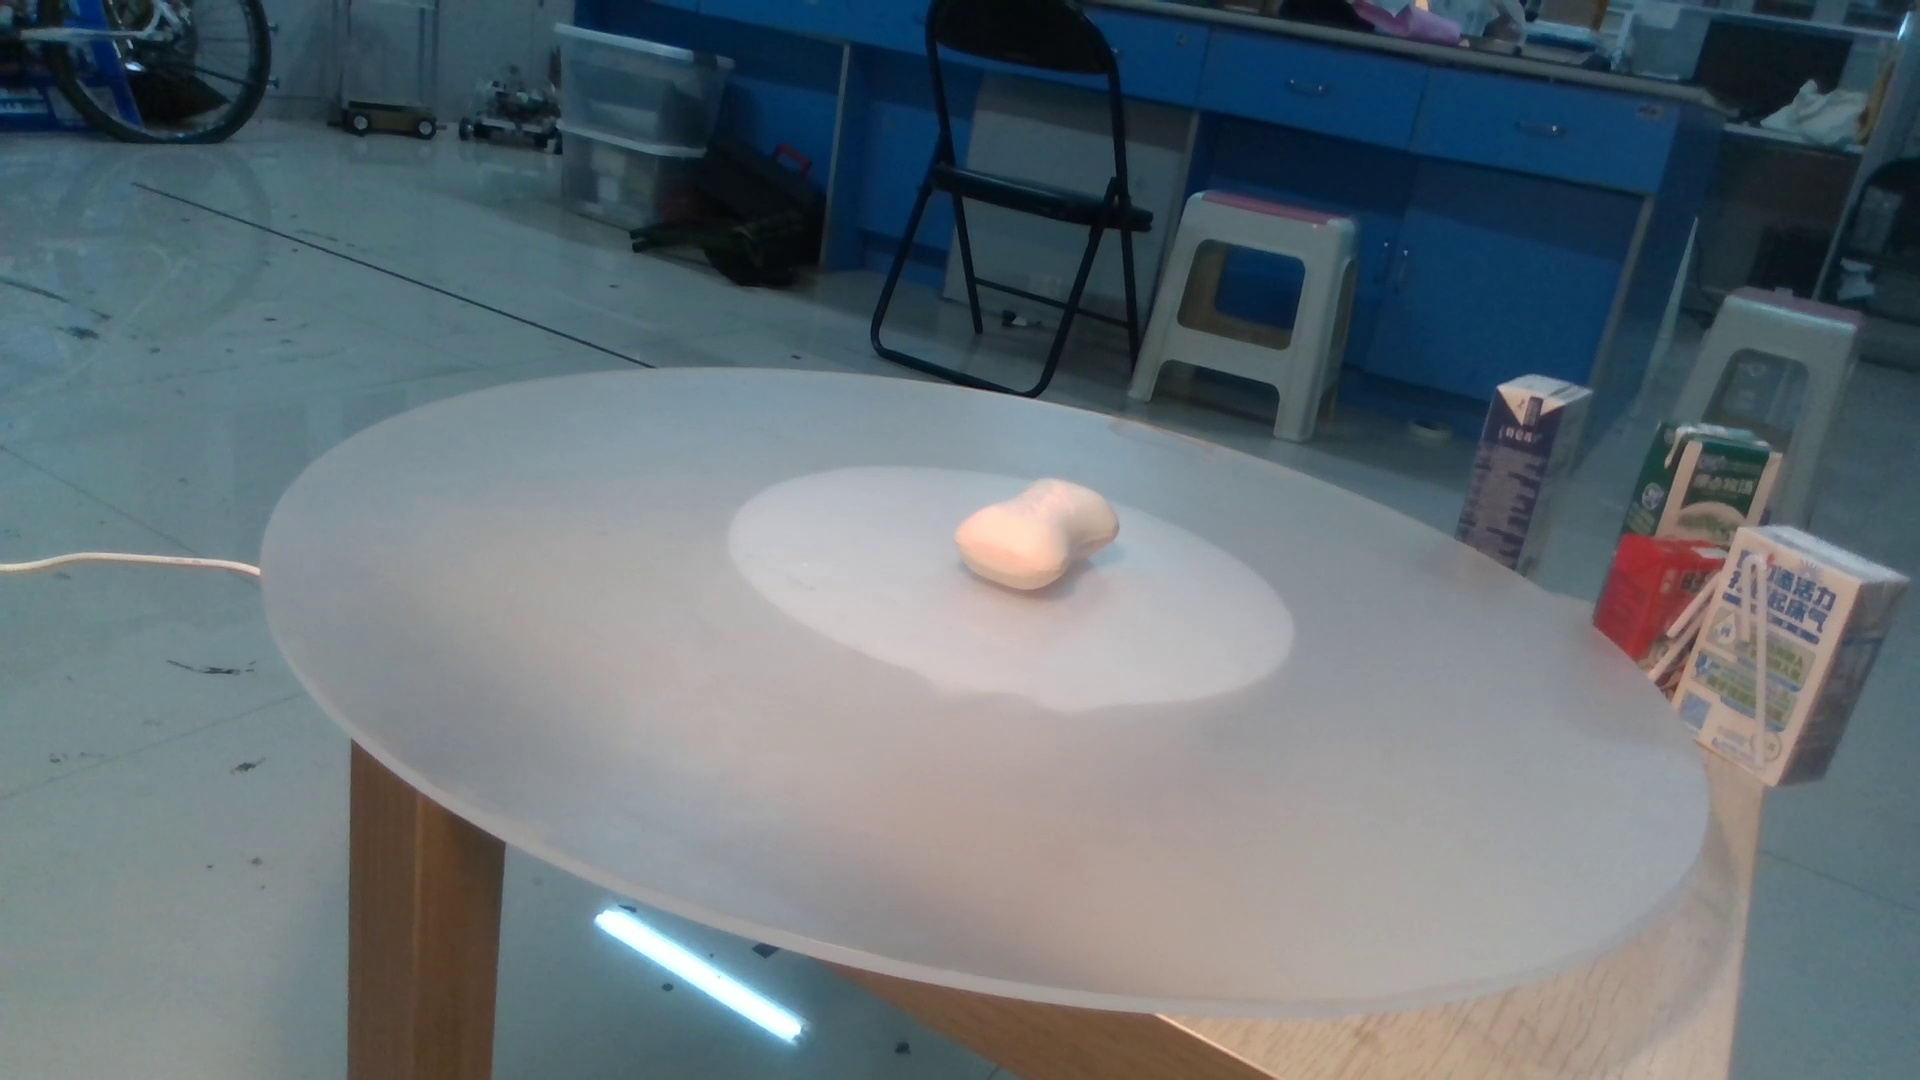CA003_1: (923, 462, 1151, 612)
